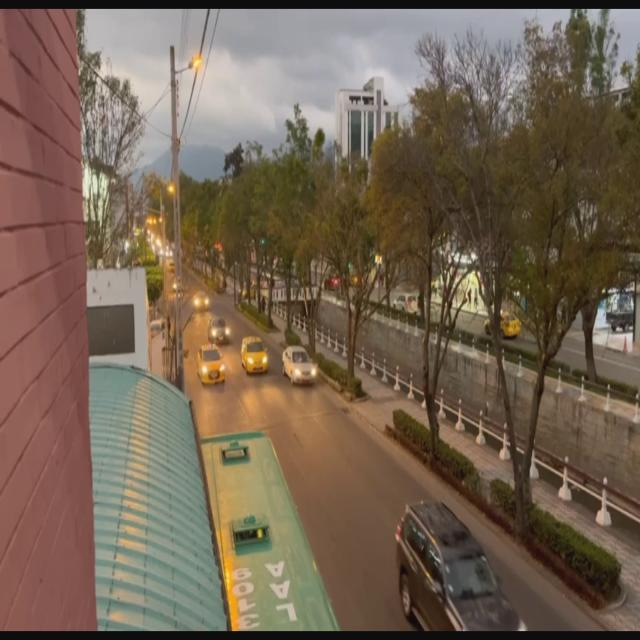BUS: (198, 430, 338, 628)
SED: (283, 349, 315, 386), (198, 346, 224, 384), (243, 338, 267, 373), (209, 319, 229, 346)
SUV: (397, 500, 523, 632)
